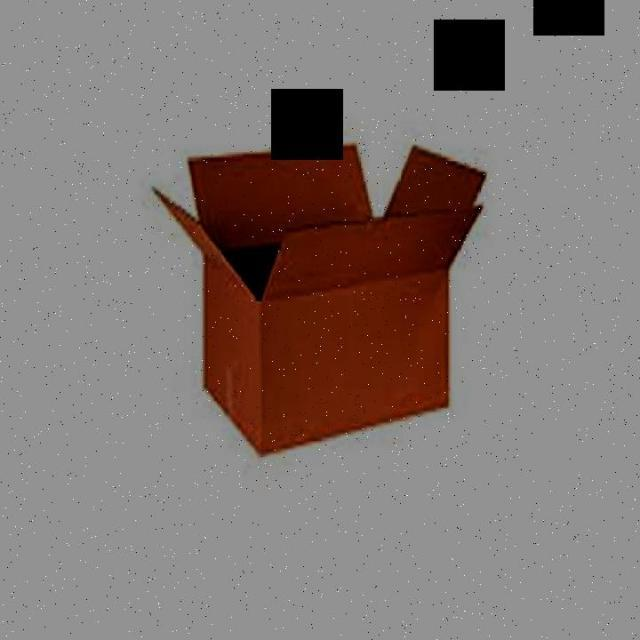box: (140, 138, 494, 462)
